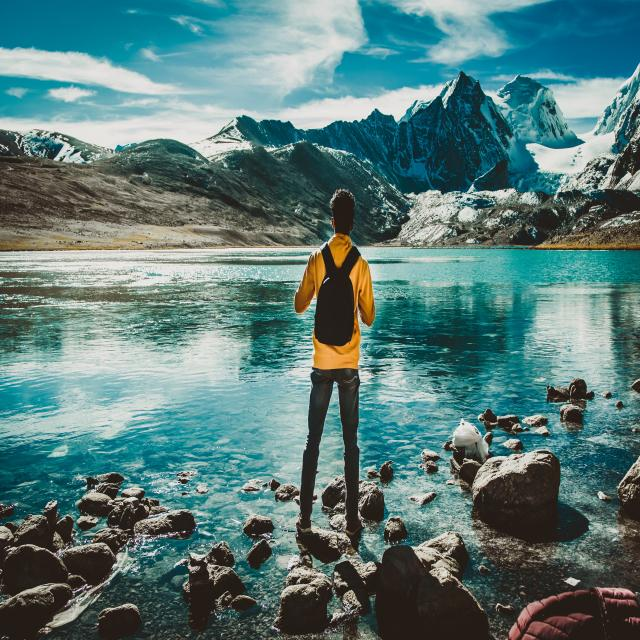backpack: (310, 247, 361, 348)
